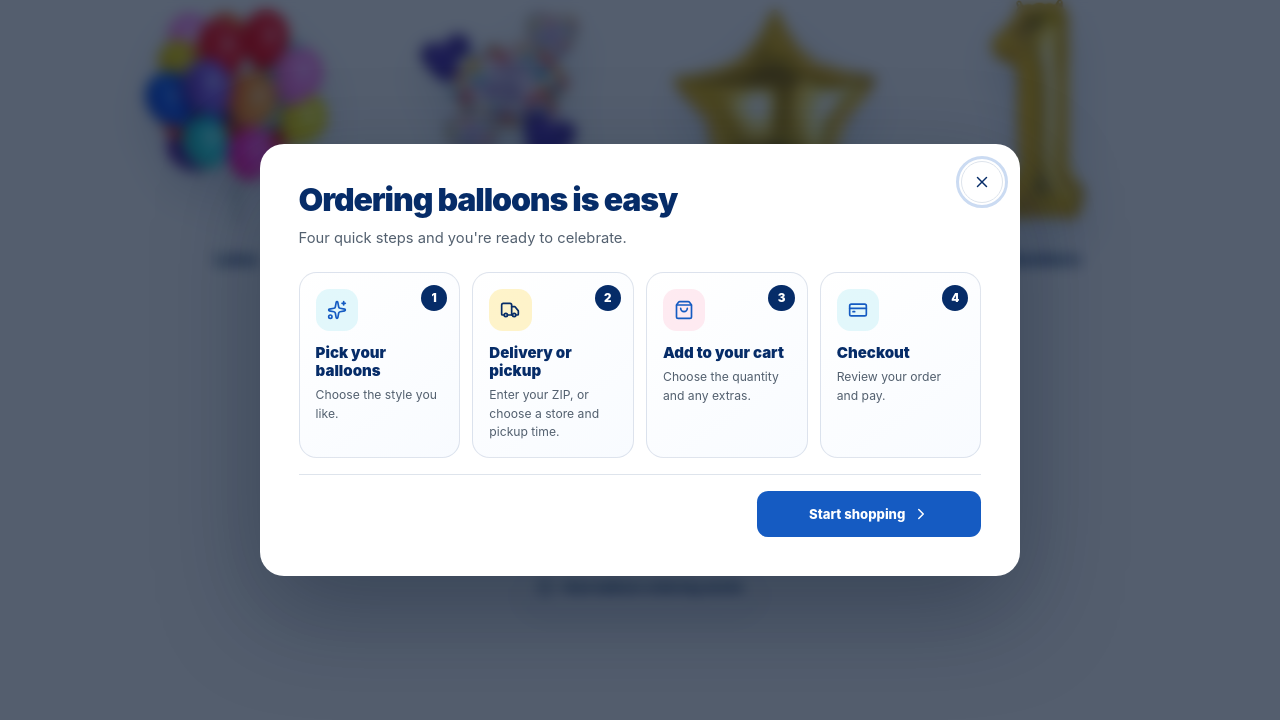
BalloonCatalogGate › opens a four-step ordering guide on entry
The width and height of the screenshot is (1280, 720).
Expected: the dialog "Ordering balloons is easy" is shown, [260, 144, 1020, 576]
Expected: the heading "Pick your balloons" is shown, [316, 343, 386, 380]
Click the button "Start shopping" at (869, 514), box [757, 491, 981, 538]
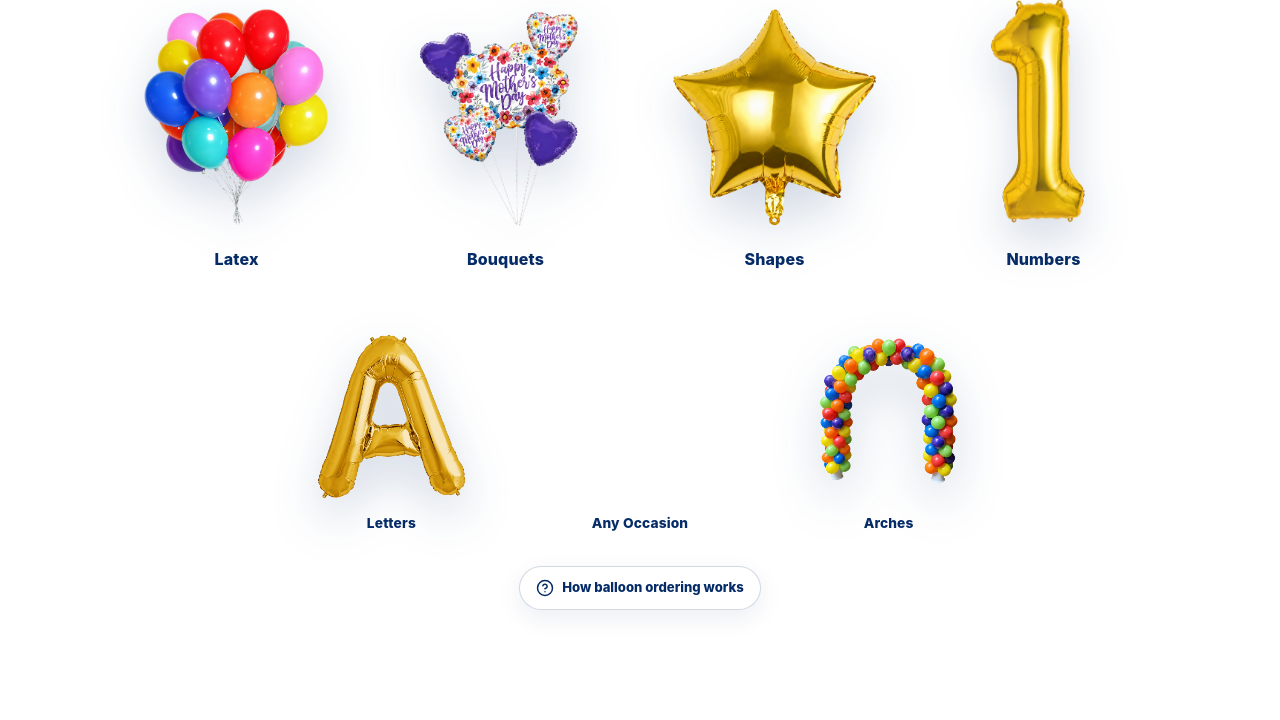
Expected: the button "How balloon ordering works" is shown, [519, 566, 761, 610]
Expected: the heading "Ordering balloons is easy" is gone
